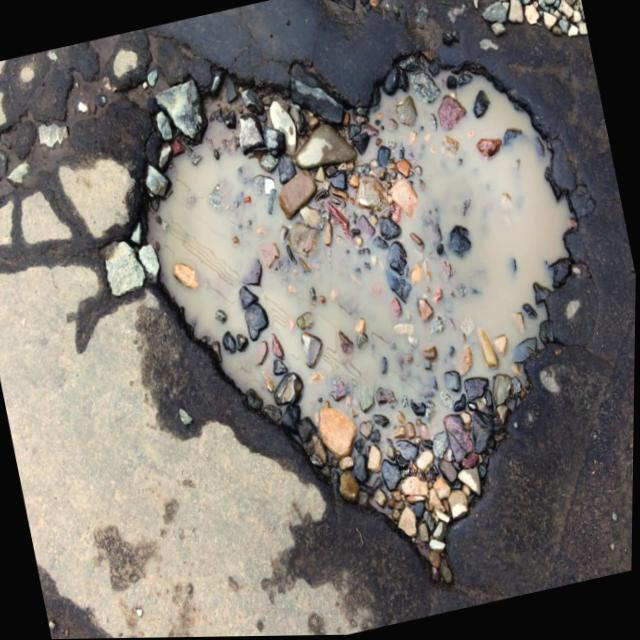Pothole: (147, 63, 565, 559)
